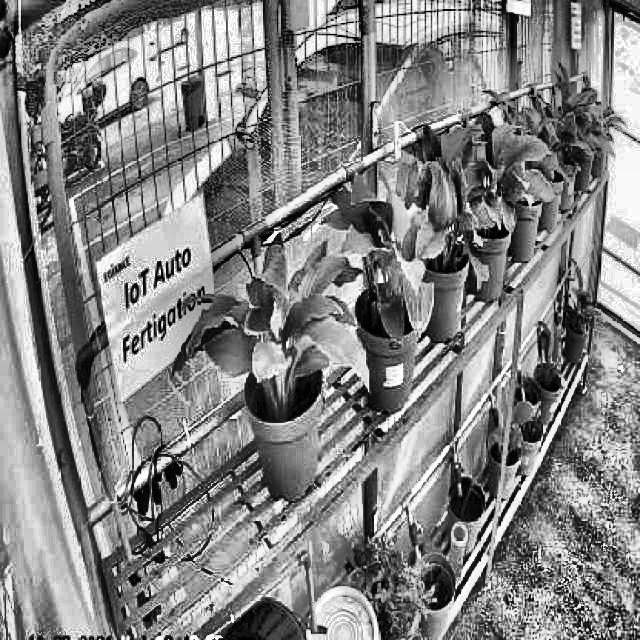plants: (175, 230, 368, 421), (323, 173, 434, 350), (390, 128, 488, 281), (445, 116, 553, 242)
